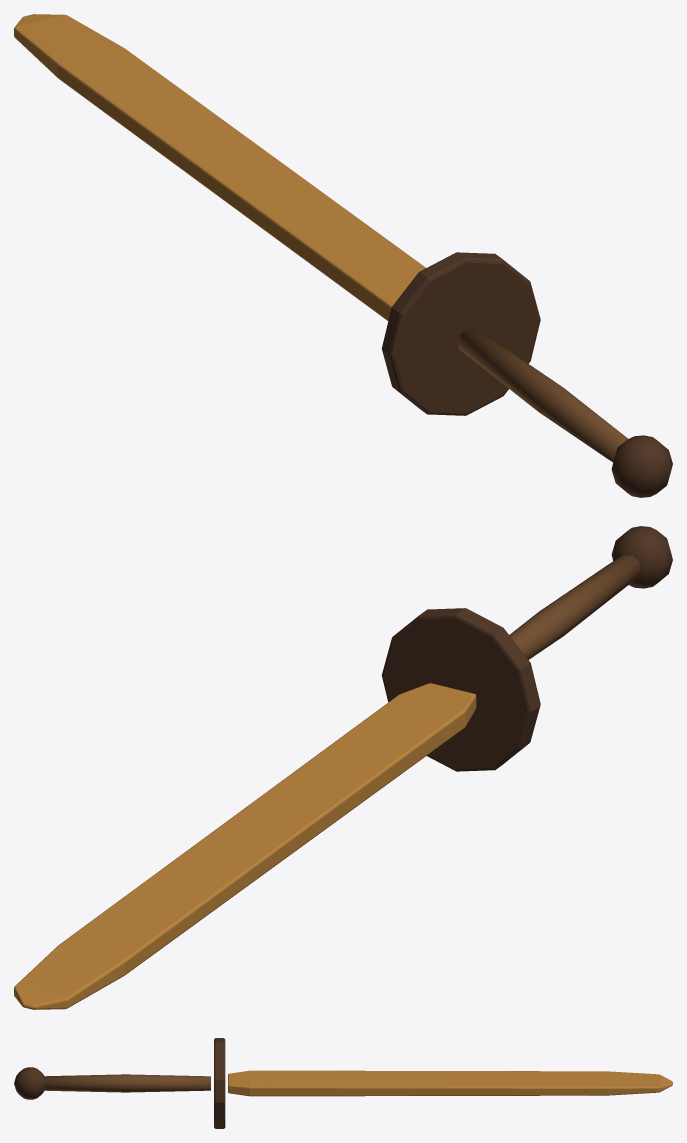
File: greatsword_04_cleaver_bronze.glb
3 renders of one model, top to bottom at view 1: azimuth 30°, elevation 25°; view 2: azimuth 150°, elevation 25°; view 3: azimuth 270°, elevation 25°, orthographic. The views are drawn at different scales.
Parts seen in each view (by area): view 1: 04_cleaver_bronze_Blade, 04_cleaver_bronze_Guard, 04_cleaver_bronze_Grip, 04_cleaver_bronze_Pommel; view 2: 04_cleaver_bronze_Blade, 04_cleaver_bronze_Guard, 04_cleaver_bronze_Grip, 04_cleaver_bronze_Pommel; view 3: 04_cleaver_bronze_Blade, 04_cleaver_bronze_Grip, 04_cleaver_bronze_Guard, 04_cleaver_bronze_Pommel.
Part boxes in pixels (x1,y1,x2,y2): 04_cleaver_bronze_Blade: (14, 14, 425, 320); 04_cleaver_bronze_Guard: (381, 252, 540, 415); 04_cleaver_bronze_Grip: (457, 327, 627, 462); 04_cleaver_bronze_Pommel: (611, 435, 672, 497); 04_cleaver_bronze_Blade: (14, 683, 476, 1009); 04_cleaver_bronze_Guard: (381, 608, 540, 771); 04_cleaver_bronze_Grip: (509, 554, 640, 659); 04_cleaver_bronze_Pommel: (611, 526, 672, 588); 04_cleaver_bronze_Blade: (228, 1070, 672, 1096); 04_cleaver_bronze_Grip: (43, 1074, 210, 1092); 04_cleaver_bronze_Guard: (214, 1038, 225, 1128); 04_cleaver_bronze_Pommel: (14, 1067, 44, 1099).
Size of the model in its own units: 0.1888 by 0.1888 by 1.36.
